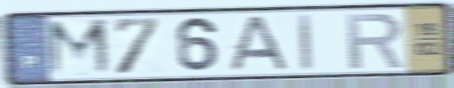6: (175, 16, 221, 74)
7: (112, 15, 163, 77)
A: (223, 14, 293, 73)
I: (297, 11, 315, 73)
M: (44, 17, 116, 79)
R: (344, 12, 406, 72)
